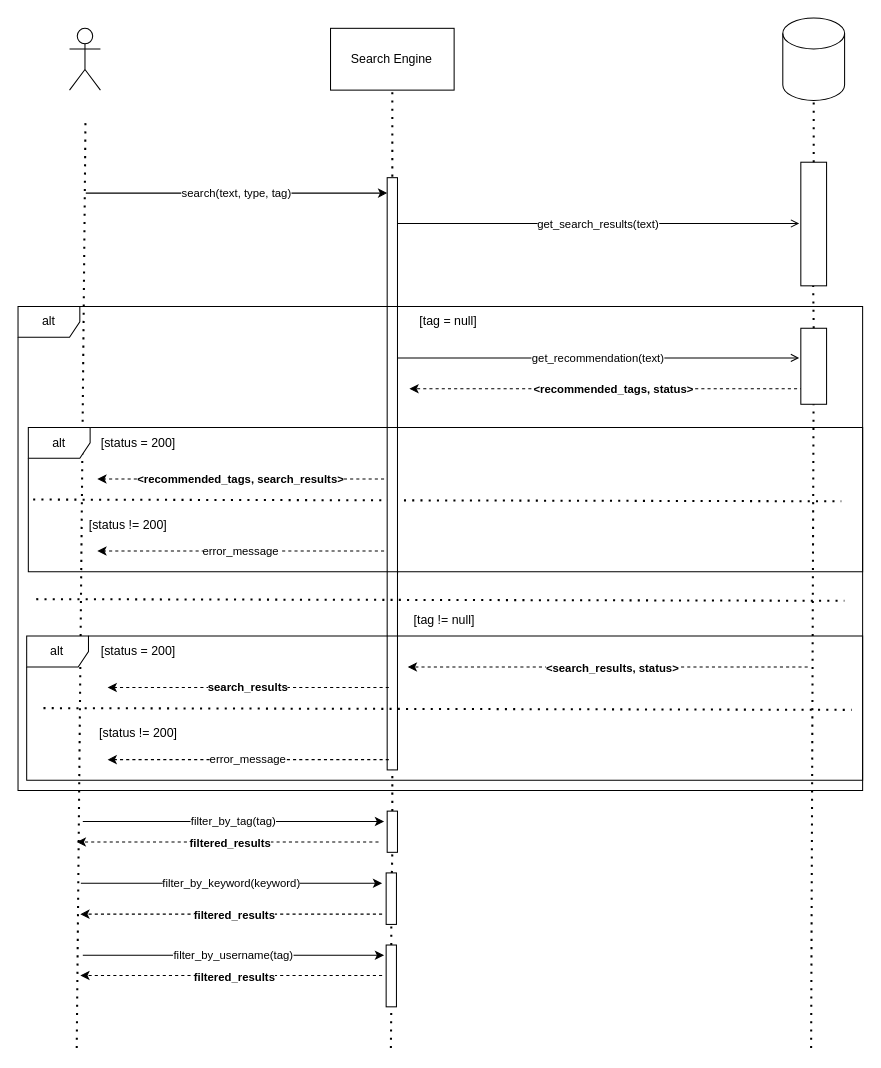
Image size: 881x1068. Some labels were removed from this diagram. The shapes that lost their labels are listed below. From the top down, each one's box as (x1, y1, x2, y2) in pixels, then its label:
(68, 27, 100, 90): Member
(782, 17, 845, 100): Database
